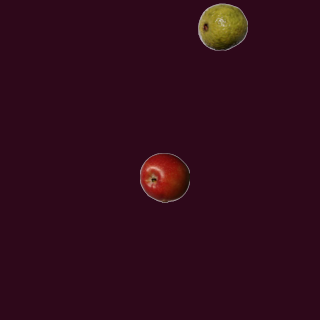Apple Braeburn: (139, 152, 189, 202)
Guava: (197, 1, 247, 51)
